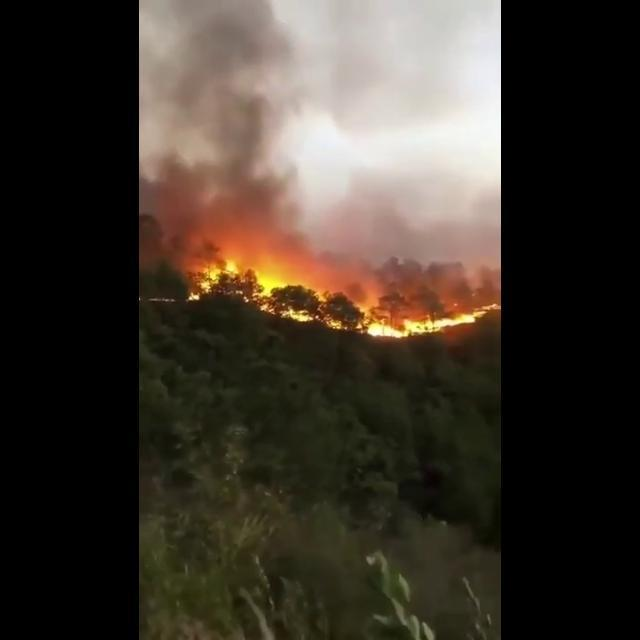Fire: (188, 259, 500, 339)
Smoke: (140, 1, 500, 269)
